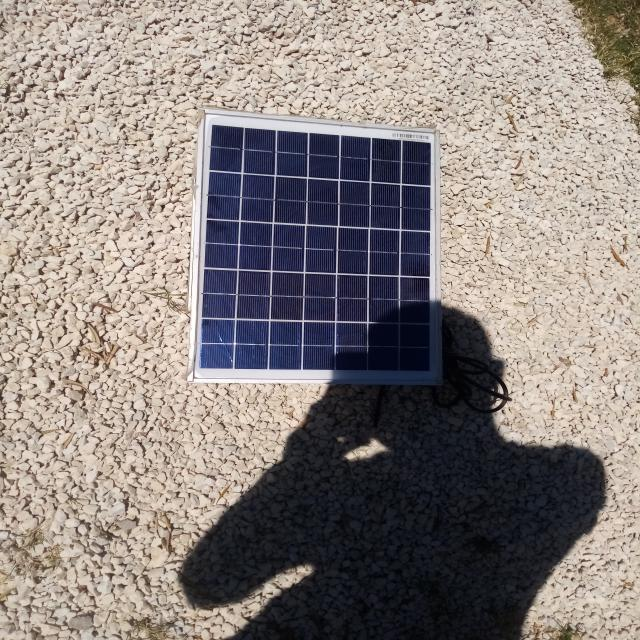no faulty: (189, 111, 441, 383)
